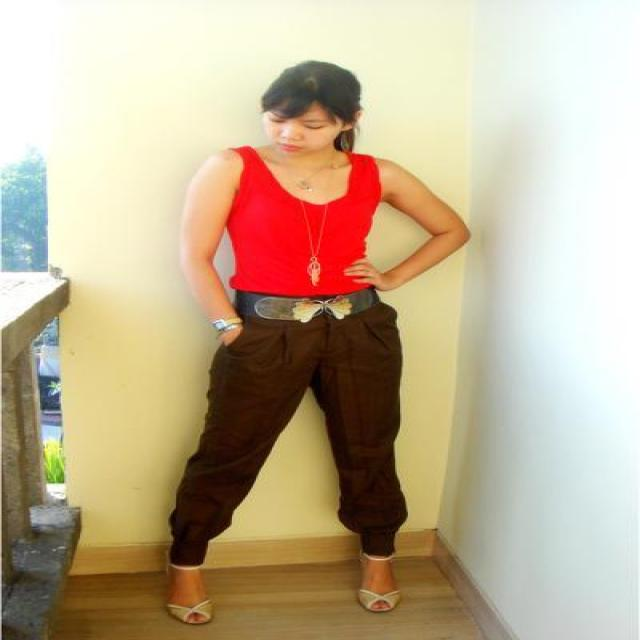pants: (168, 310, 406, 564)
shirt: (224, 146, 379, 293)
shoe: (172, 593, 210, 620)
